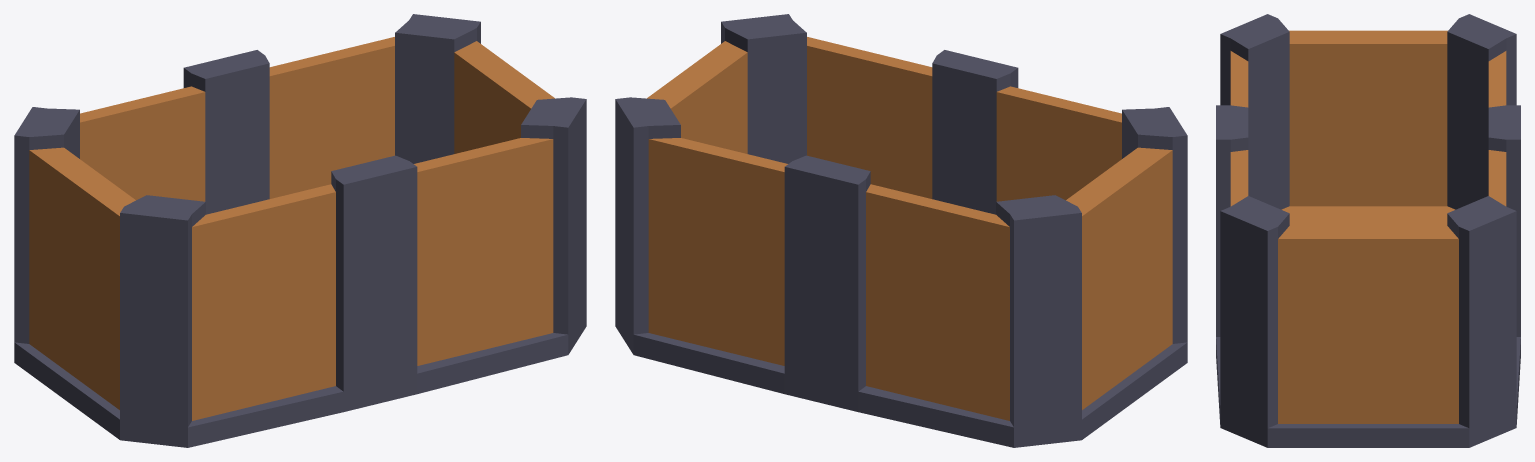
The model's file is SM_Chest.fbx.
The picture shows the model from 3 angles, left to right: view 1: azimuth 30°, elevation 25°; view 2: azimuth 150°, elevation 25°; view 3: azimuth 270°, elevation 25°; orthographic projection. The views are drawn at different scales.
Parts seen in each view (by area): view 1: Cube; view 2: Cube; view 3: Cube.
Part boxes in pixels (x1,y1,x2,y2): Cube: (14, 14, 586, 447); Cube: (615, 14, 1187, 447); Cube: (1216, 14, 1520, 447).
Bounding box in the file's own units: 2.08 × 1.24 × 0.9715.
